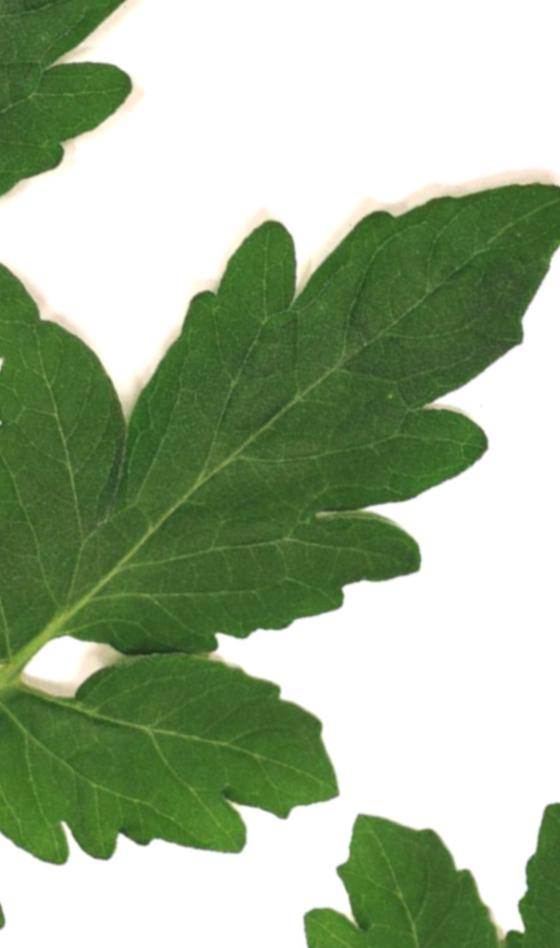Tomato leaf: (0, 0, 560, 825), (0, 535, 381, 948)
